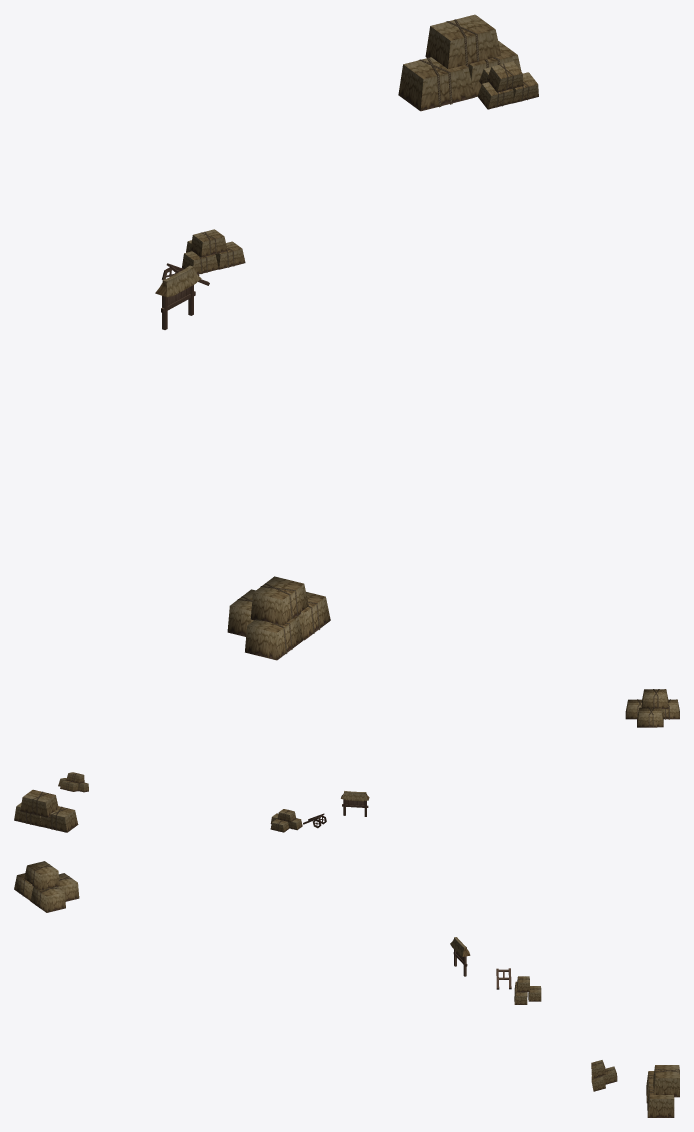
The model's file is xiaowujian04.fbx.
3 views of the same model, one above another, from view 1: azimuth 30°, elevation 25°; view 2: azimuth 150°, elevation 25°; view 3: azimuth 270°, elevation 25° (orthographic). The views are drawn at different scales.
Parts seen in each view (by area): view 1: xiaowujian04; view 2: xiaowujian04; view 3: xiaowujian04.
Boxes of the visible parts, box(x1,y1,x2,y2) form: xiaowujian04: box(155, 14, 538, 660); xiaowujian04: box(14, 689, 679, 832); xiaowujian04: box(14, 861, 679, 1117).
Size of the model in its own units: 4950 by 386 by 6023.
